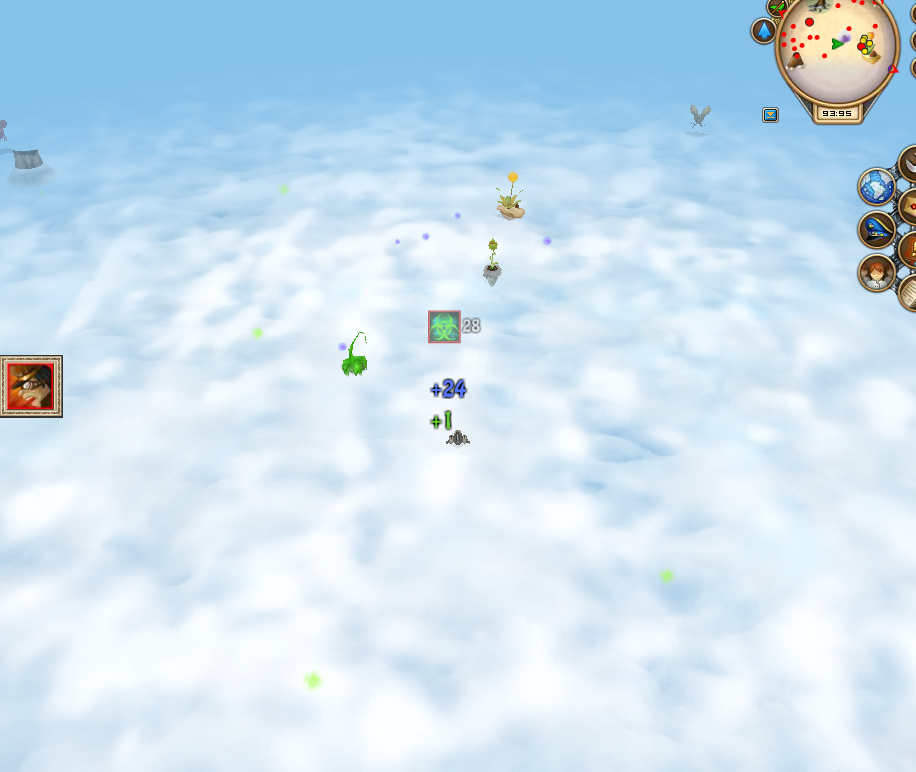dandelion-full: (331, 324, 378, 383)
fluff: (536, 229, 559, 250), (447, 204, 466, 224), (415, 228, 434, 245), (391, 234, 405, 250)
